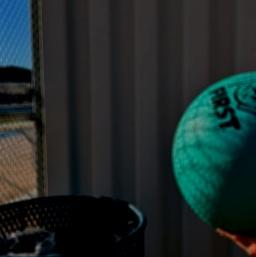algae: (168, 66, 256, 233)
